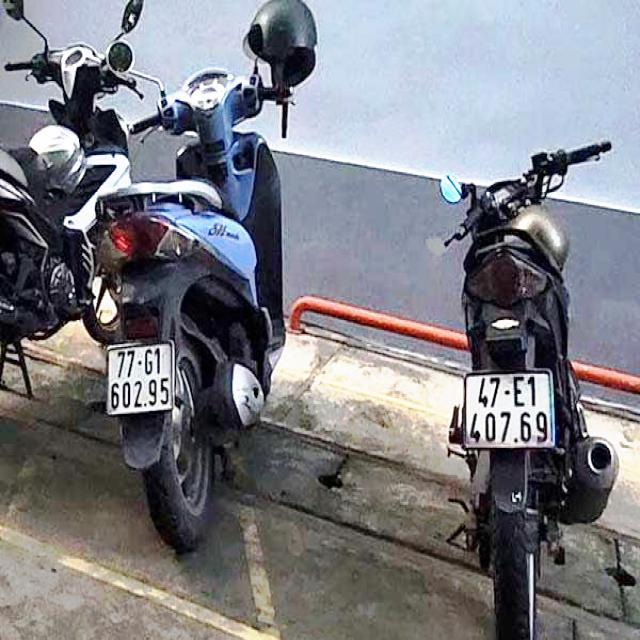license_plate: (466, 373, 557, 451), (109, 345, 173, 414)
